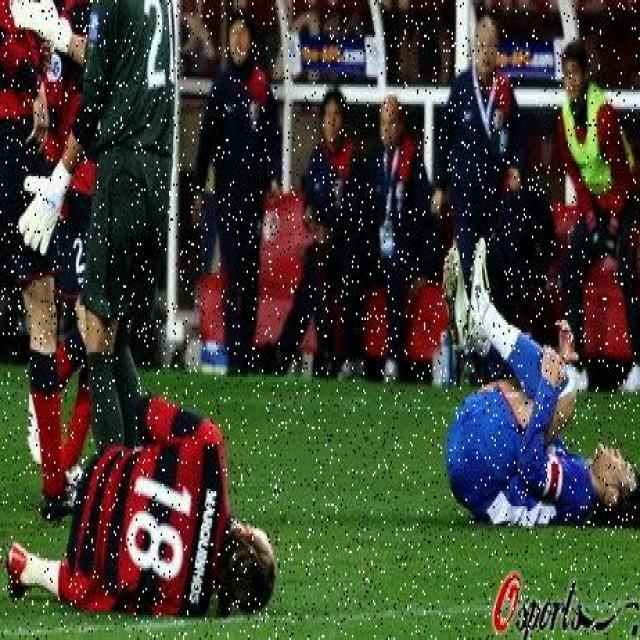fall: (428, 243, 639, 528), (27, 392, 282, 625)
